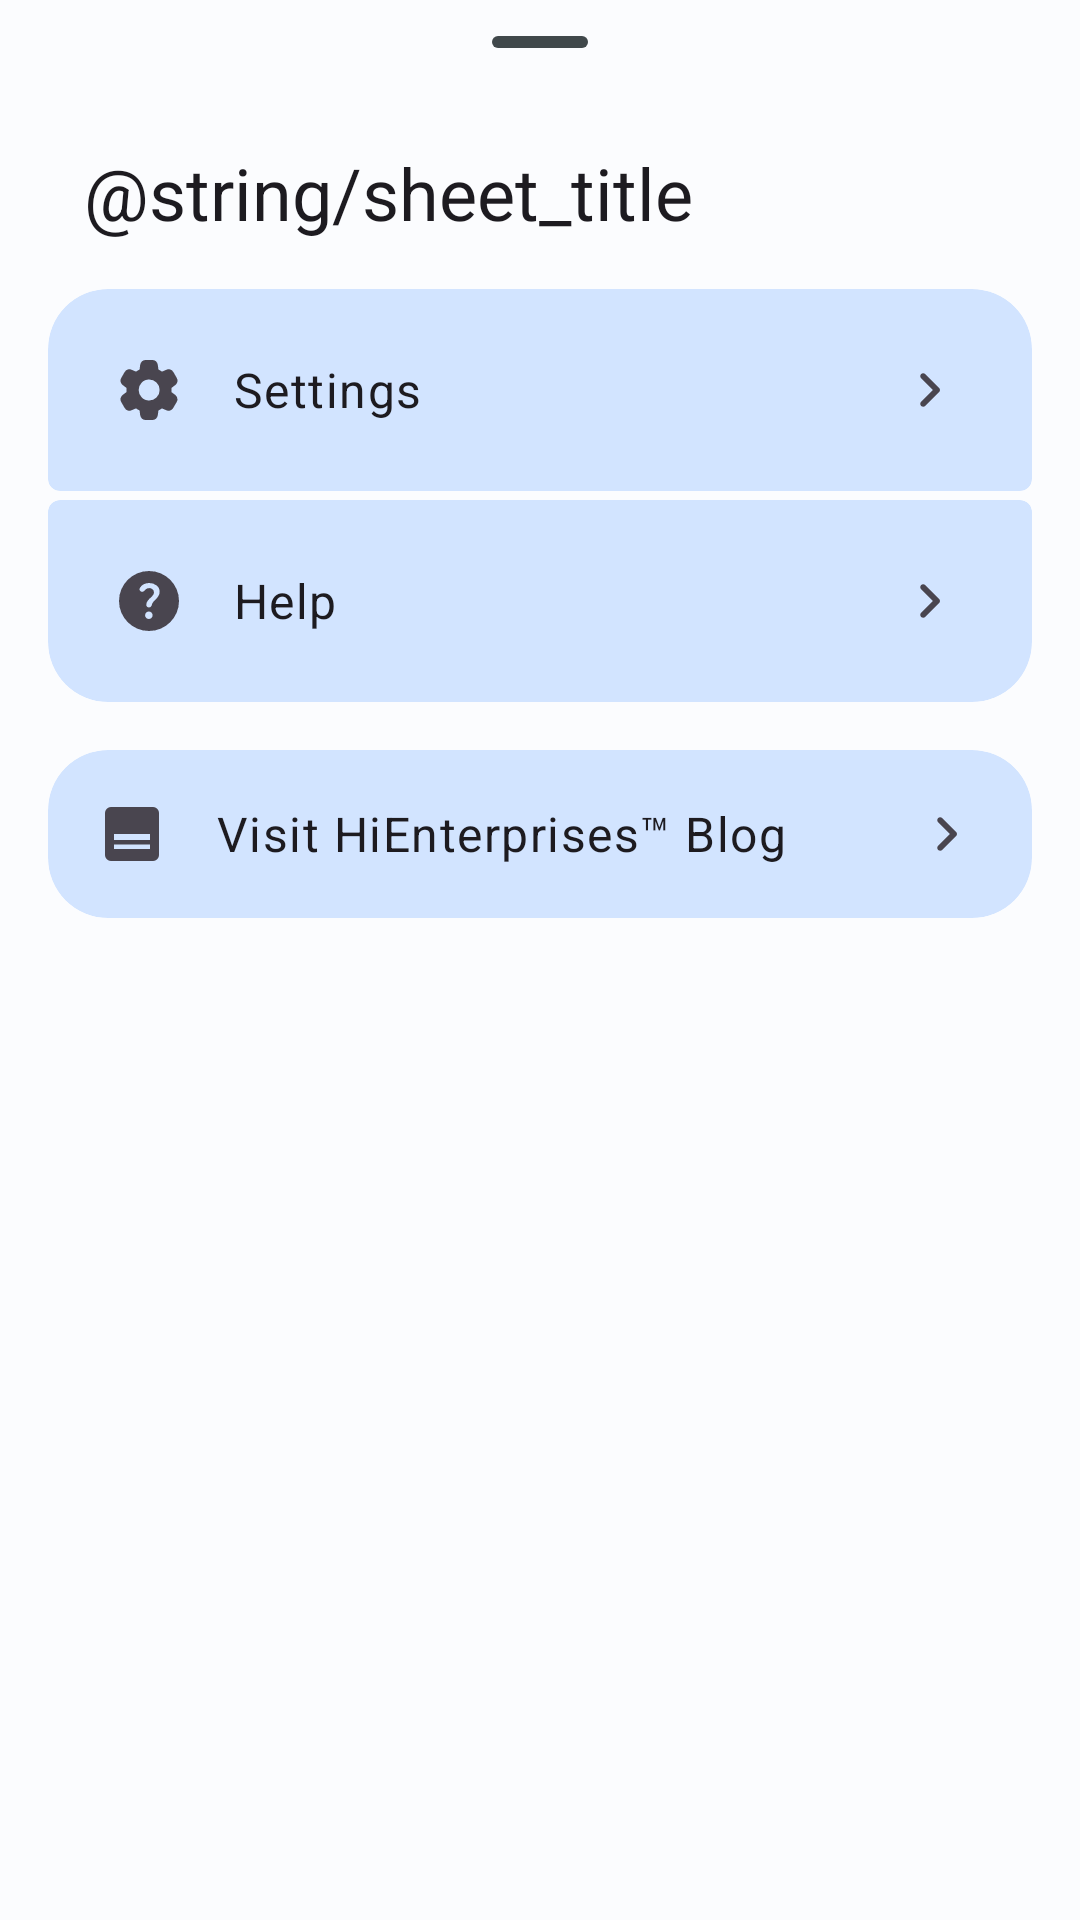

Named icons in this screenshot (1080px x 1920px) and their centers, [x,y]:
chevron: [930,390], [930,601], [947,834]
